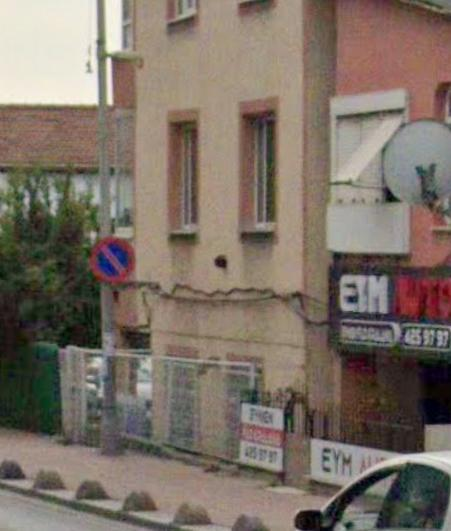nopark: (94, 238, 133, 282)
